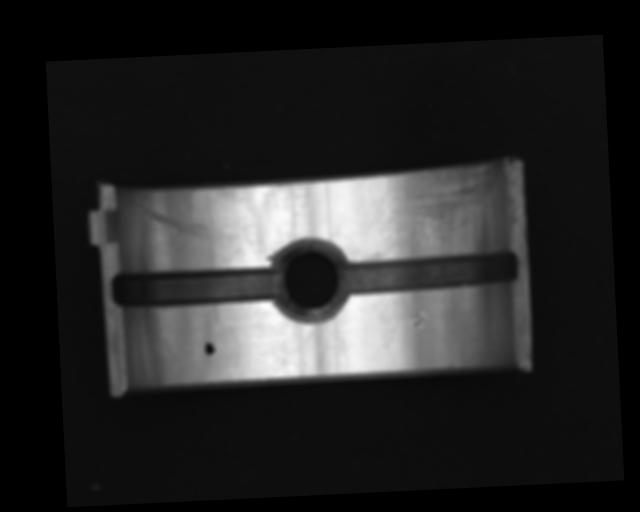blot: (204, 339, 216, 356)
bruise: (409, 310, 429, 330)
gap: (340, 247, 522, 295), (110, 264, 281, 309)
hole: (267, 238, 352, 322)
nick: (134, 191, 250, 257)
scratch: (364, 161, 500, 261)
